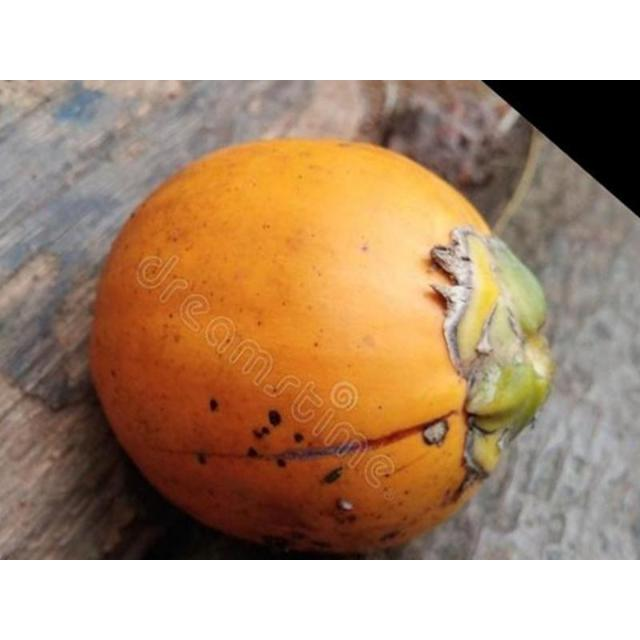good: (88, 138, 557, 557)
